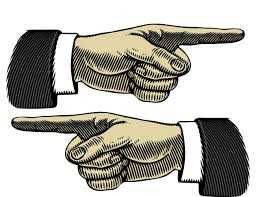hand: (61, 19, 253, 108), (5, 110, 193, 194)
